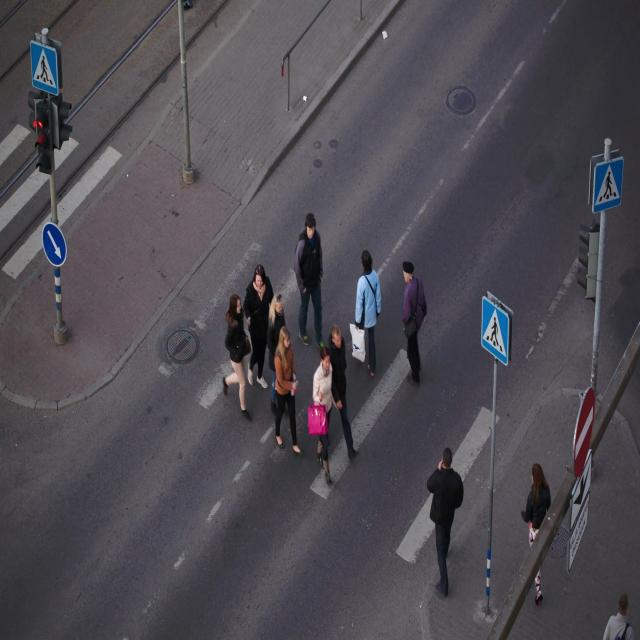pedestrian: (309, 324, 357, 484), (262, 295, 297, 447), (428, 448, 463, 595), (350, 250, 381, 376), (402, 261, 426, 385), (296, 213, 321, 320), (244, 265, 270, 350), (522, 463, 550, 541), (223, 295, 244, 393)
